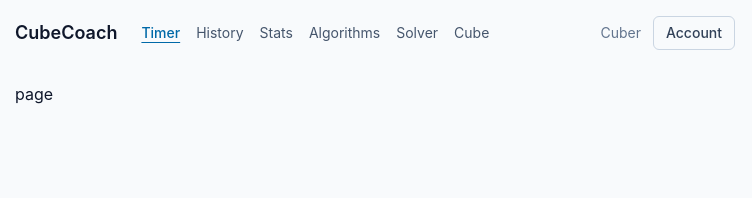
Scenario: signing out everywhere › ends every session once confirmed, and shows the user as signed out
What coordinates should you click on to do the following:
click the button "Account"
I would click on:
 (694, 33)
Its box is [653,16,735,50].
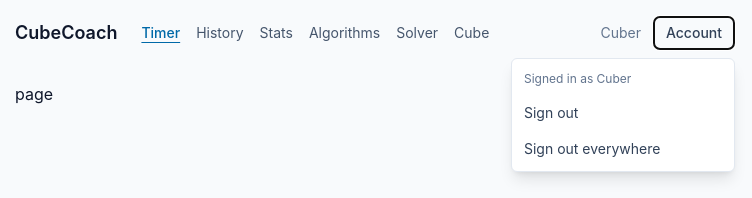
What coordinates should you click on to do the following:
click the button "Sign out everywhere"
I would click on:
 (623, 149)
Its box is [512,131,734,167].
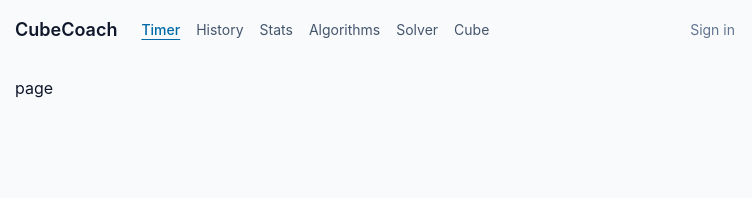
Expected: the link "Sign in" is shown, [690,20,735,40]
